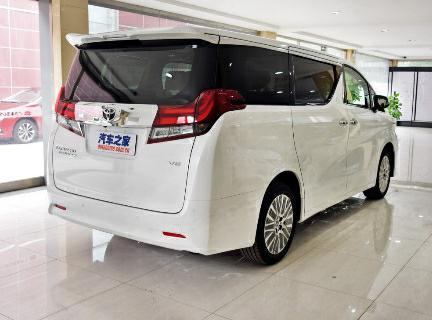丰田-埃尔法: (32, 24, 410, 274)
